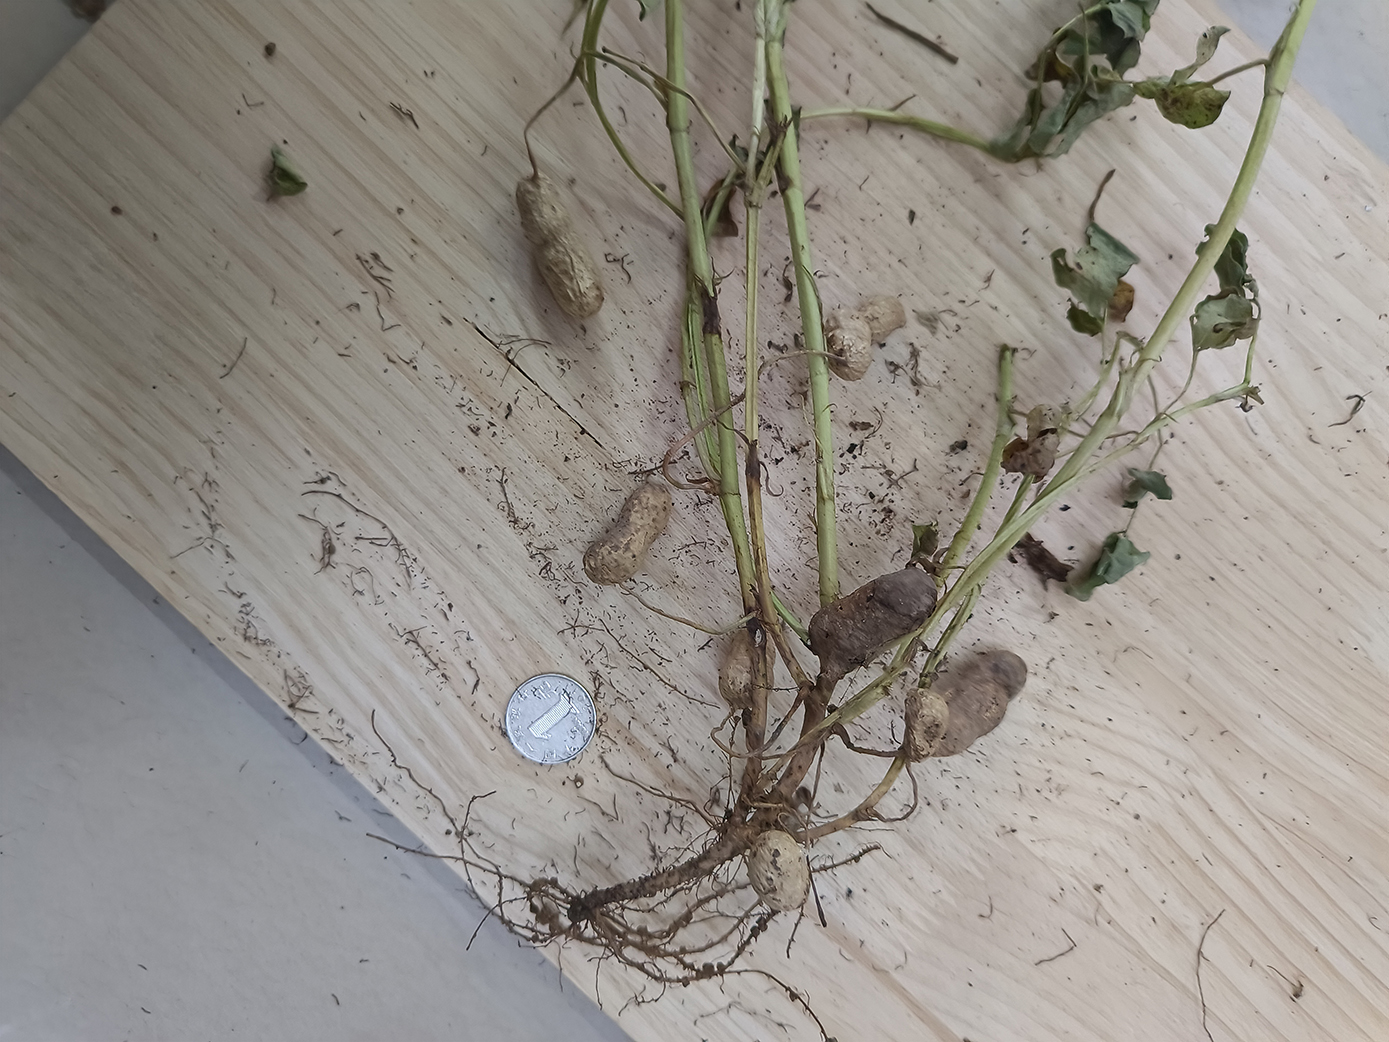h: (517, 173, 604, 319), (583, 482, 674, 588), (823, 296, 906, 383), (748, 827, 811, 912), (718, 621, 777, 701), (904, 688, 945, 760)
l: (809, 565, 936, 667), (941, 650, 1029, 756)
